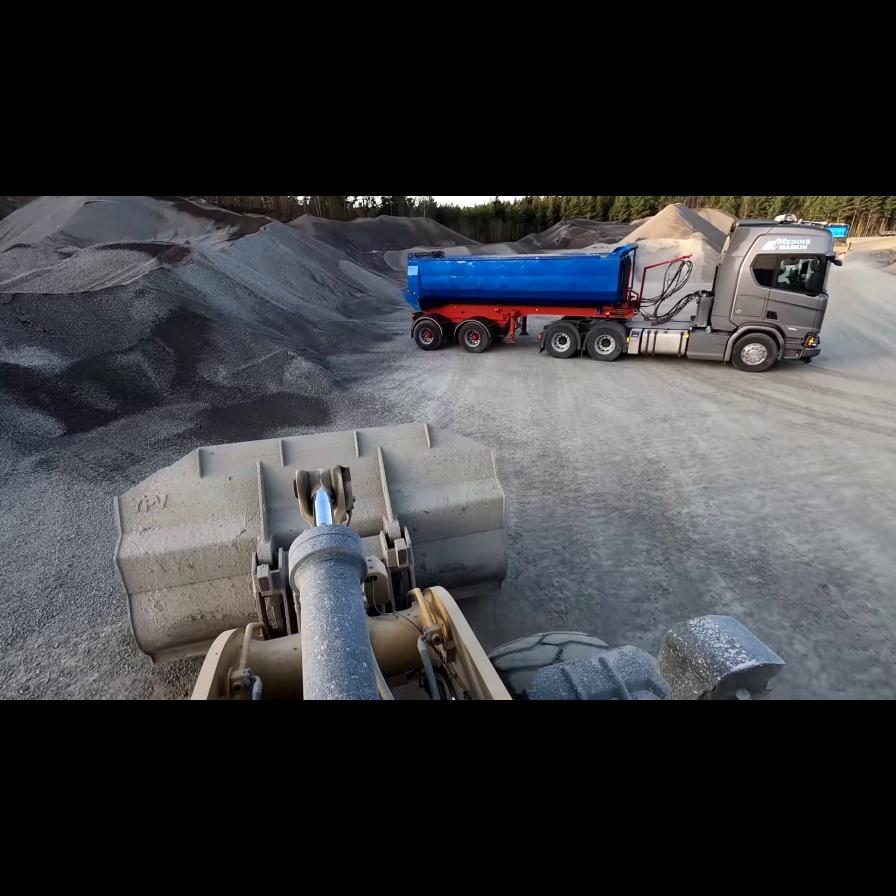anchor: (293, 466, 352, 528)
pile of gravel: (3, 195, 357, 424), (529, 192, 734, 249), (294, 214, 480, 266)
